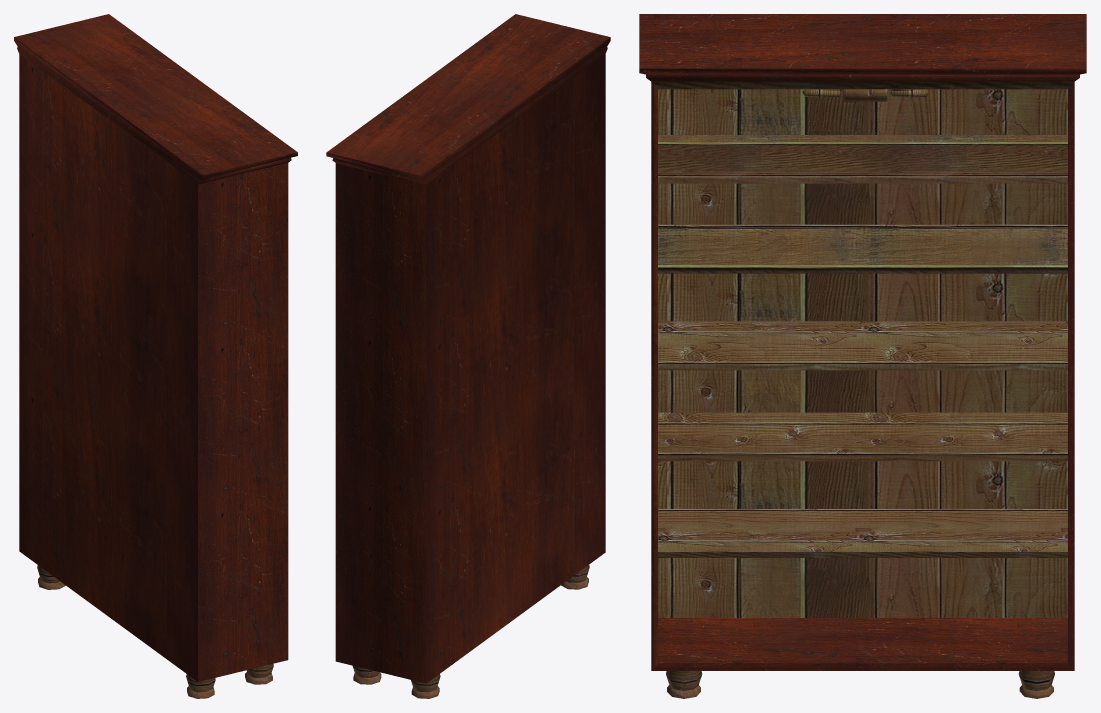
Rendered from M_Home_Garden_CubBoards03.fbx.
3 renders of one model, left to right at view 1: azimuth 30°, elevation 25°; view 2: azimuth 150°, elevation 25°; view 3: azimuth 270°, elevation 25°, orthographic. The views are drawn at different scales.
Parts seen in each view (by area): view 1: M_Home_Garden_CubBoards03; view 2: M_Home_Garden_CubBoards03; view 3: M_Home_Garden_CubBoards03.
Part boxes in pixels (x1=…): M_Home_Garden_CubBoards03: x1=14, y1=14, x2=297, y2=698; M_Home_Garden_CubBoards03: x1=326, y1=14, x2=610, y2=698; M_Home_Garden_CubBoards03: x1=639, y1=14, x2=1086, y2=698.
Bounding box in the file's own units: 46.33 × 250 × 160.
